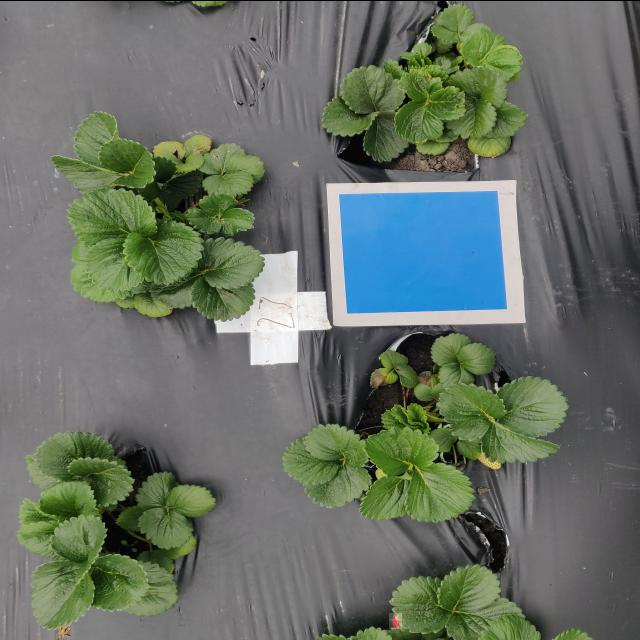ripe: (472, 444, 503, 470)
unripe: (389, 611, 403, 628)
